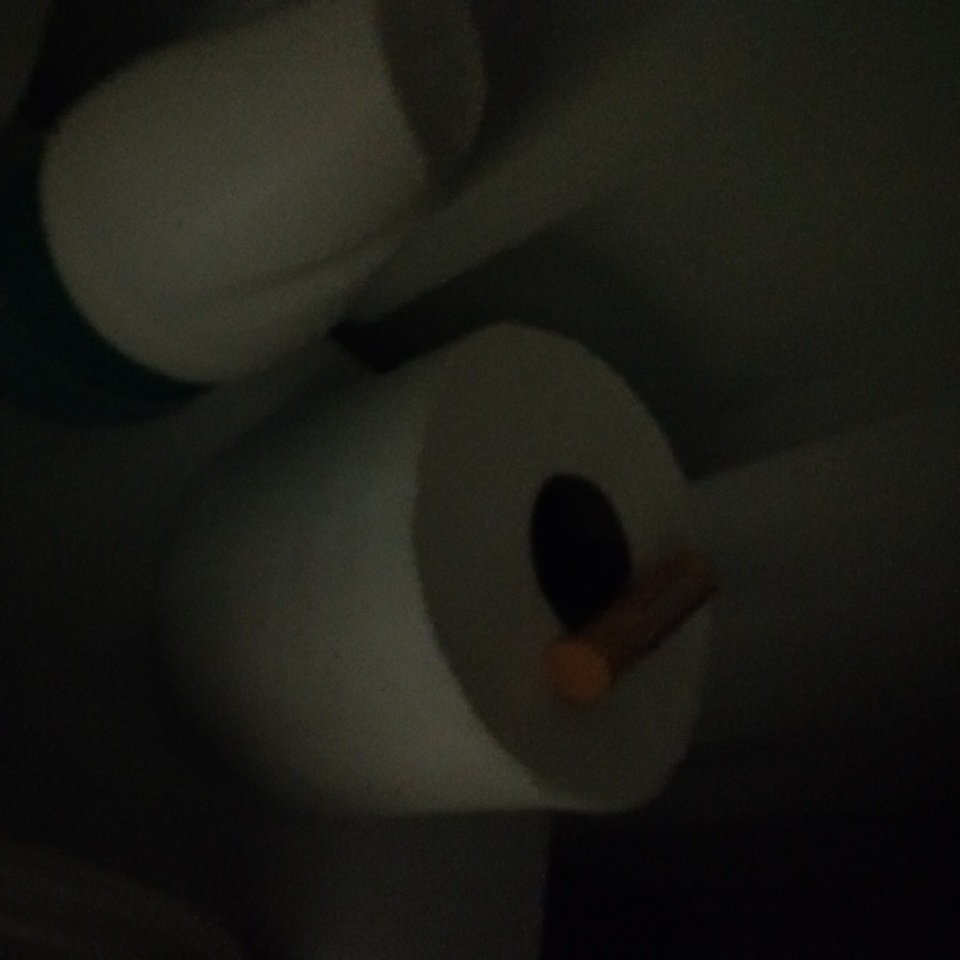chapstick: (543, 551, 720, 711)
